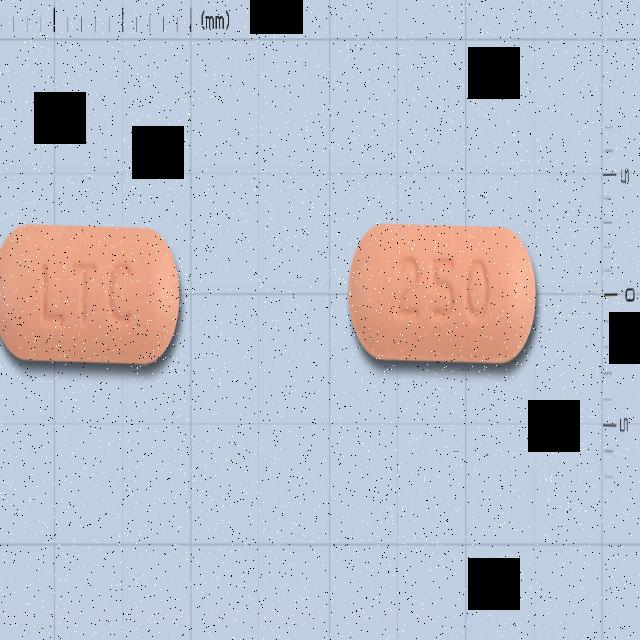Lectacin: (349, 221, 537, 364), (0, 223, 181, 365)
